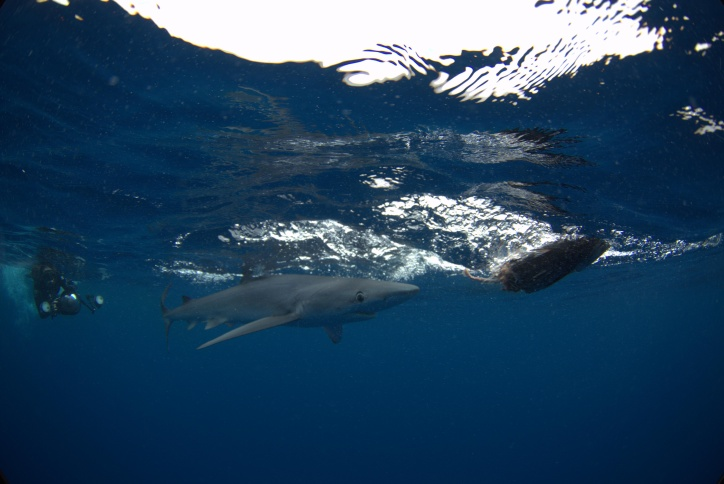Azul: (131, 237, 428, 363)
